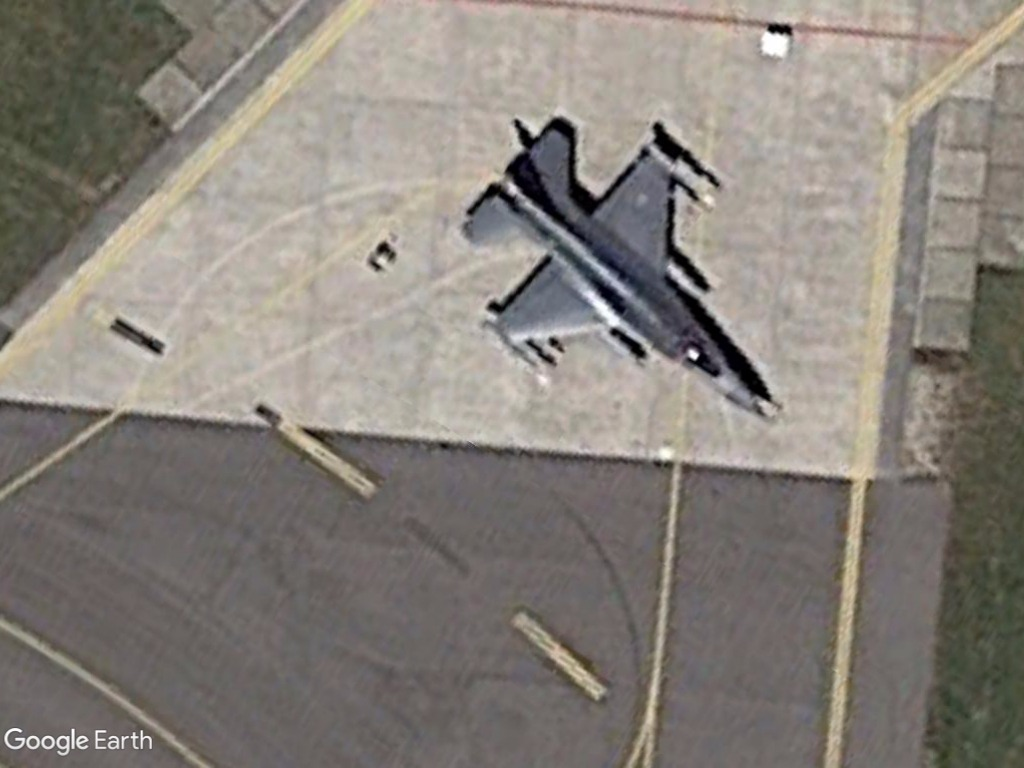fighter: (455, 113, 791, 434)
